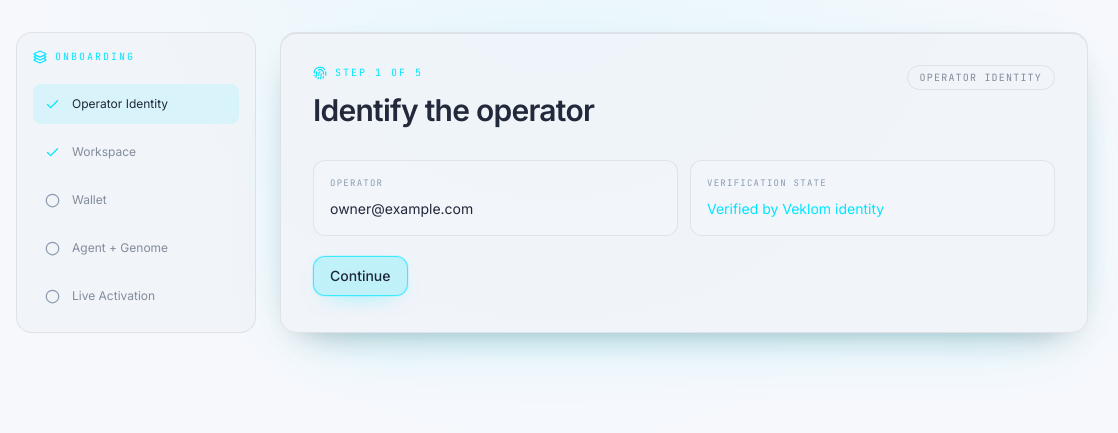
Test: onboarding workspace step › finds a workspace the operator already owns via /api/v1/workspace/me
Step 1. Click the button "Continue" → (360,276), box [313, 256, 408, 296]
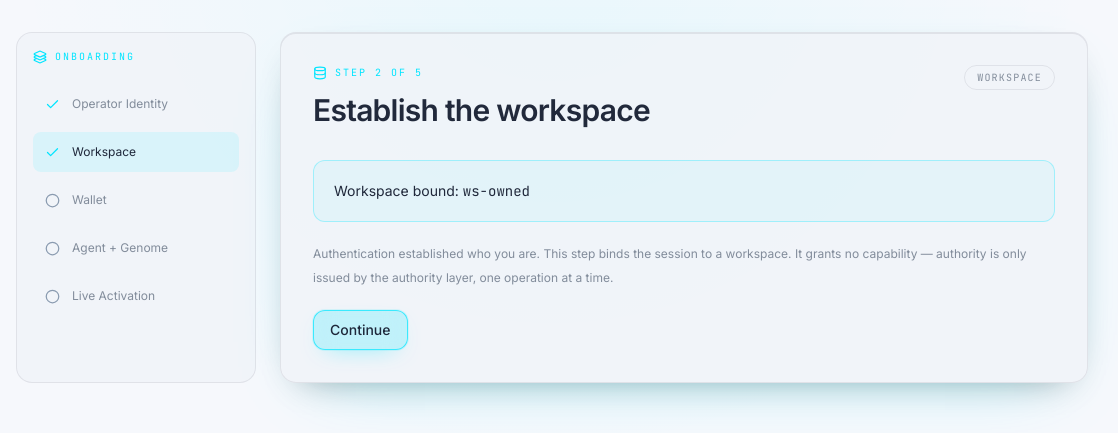
expect the button "Continue" is enabled: met, box [313, 310, 408, 350]
expect the text "Establish the workspace" is shown: met, box [313, 92, 650, 128]
expect the text "Workspace bound: ws-owned" is shown: met, box [313, 160, 1055, 222]
